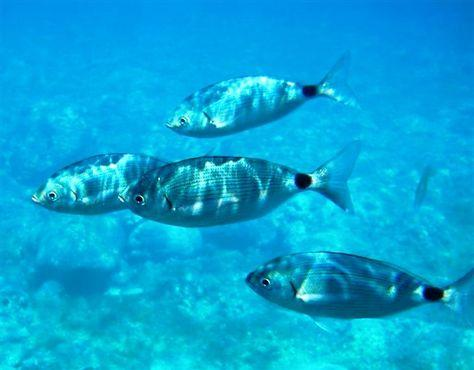fish: (120, 140, 360, 227), (245, 251, 474, 333), (166, 49, 362, 137), (31, 154, 173, 216)
